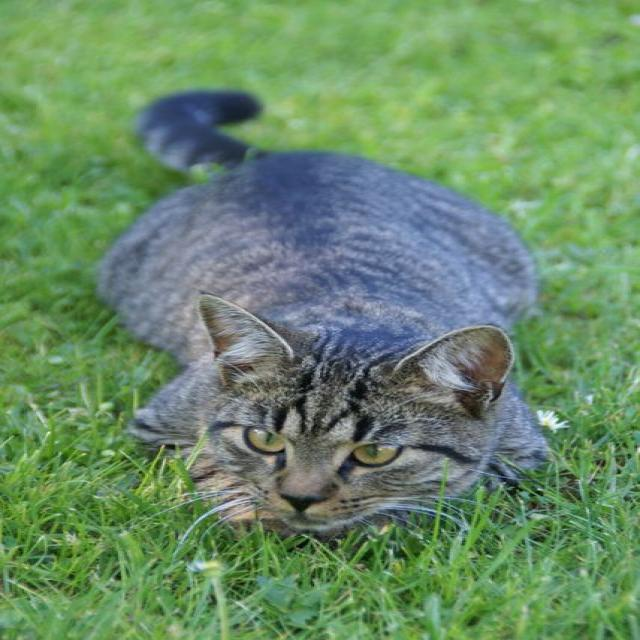cat: (132, 152, 521, 542)
